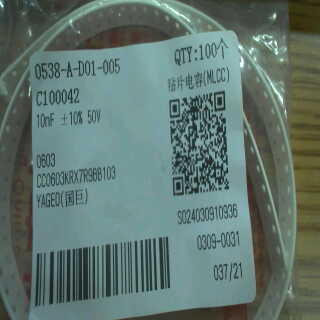10nF: (35, 107, 57, 135)
